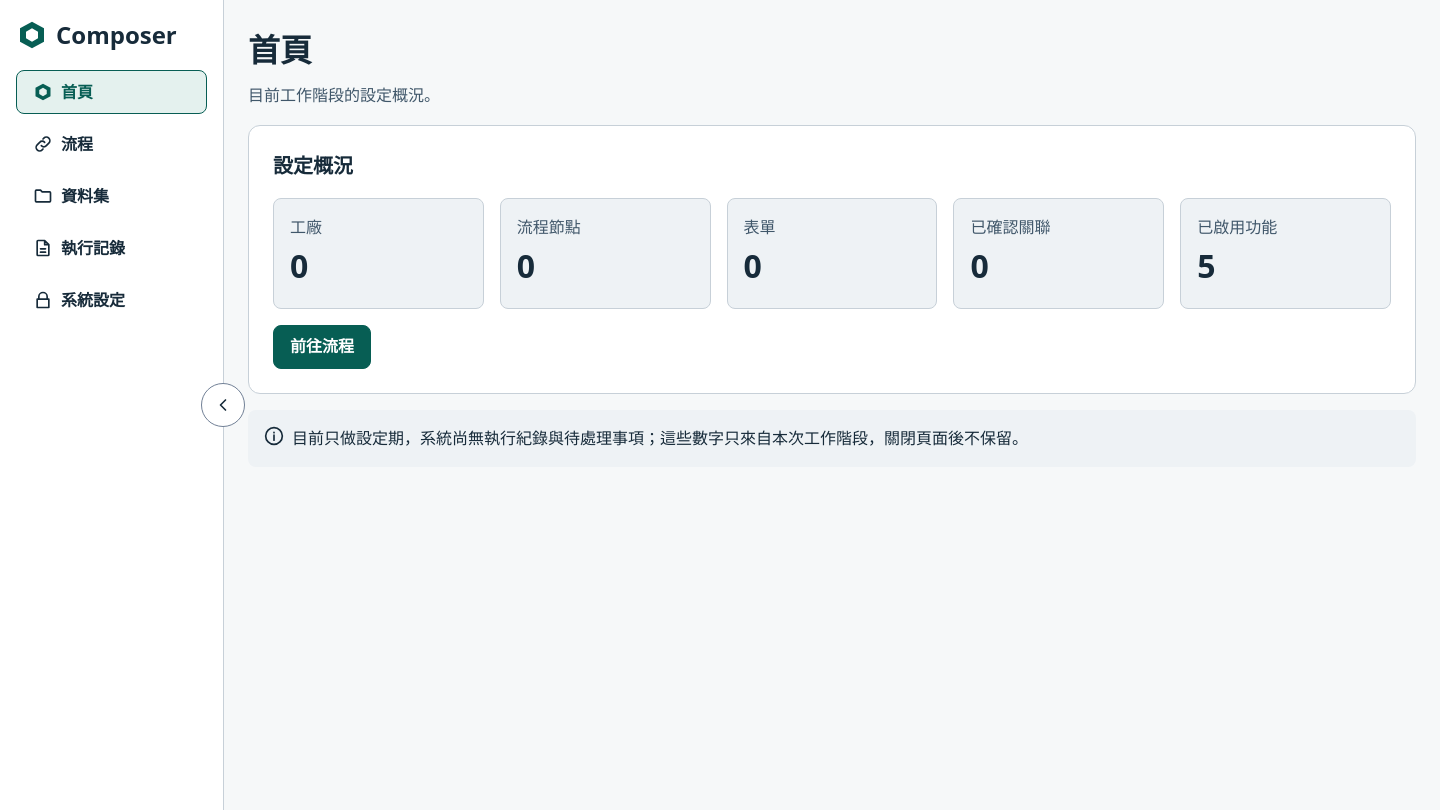
real flows select prerequisites and render both real Kit previews
Click the button "流程": (112, 144) x1=16 y1=122 x2=207 y2=166
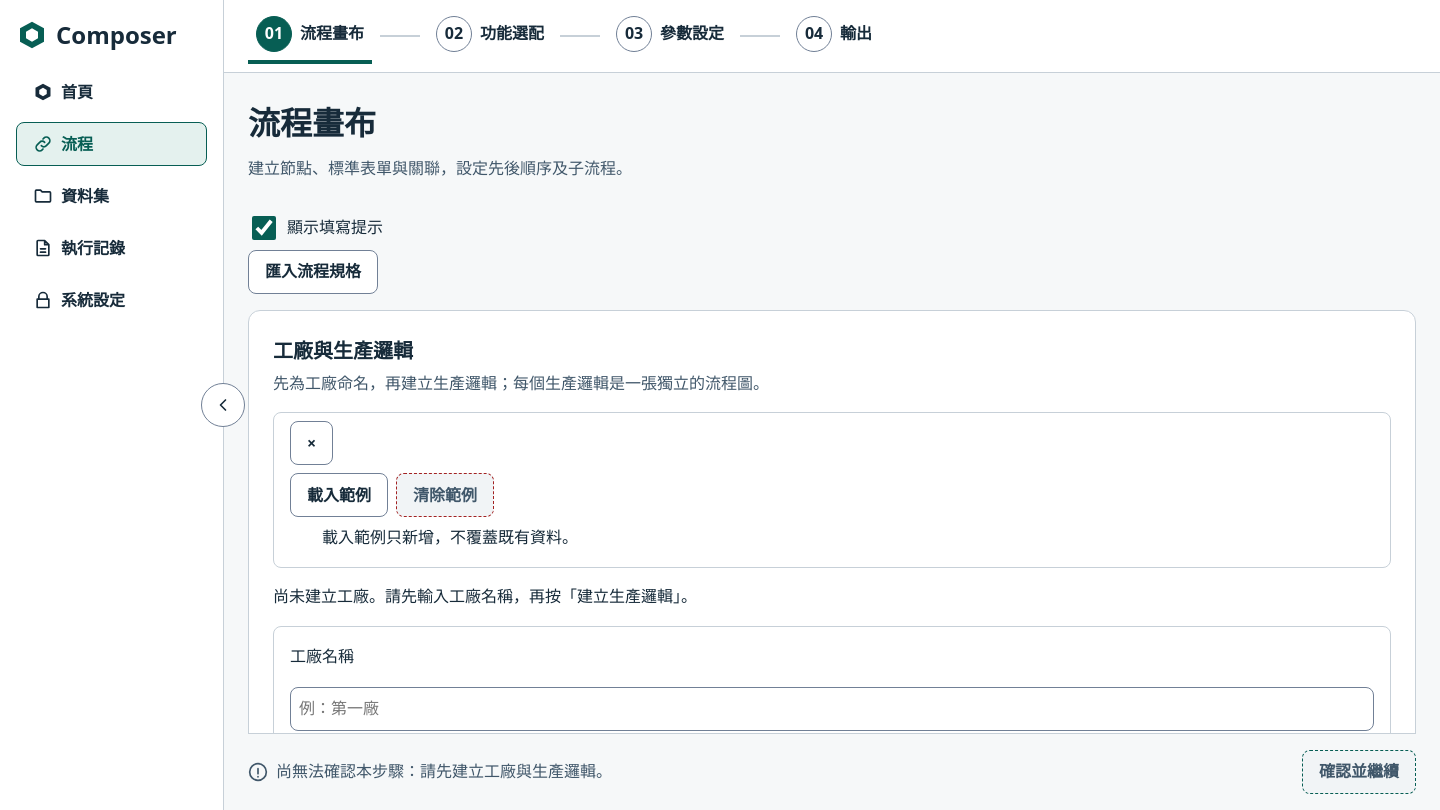
Click the button "02 功能選配": (490, 36) x1=428 y1=8 x2=552 y2=64
(page scrolled)
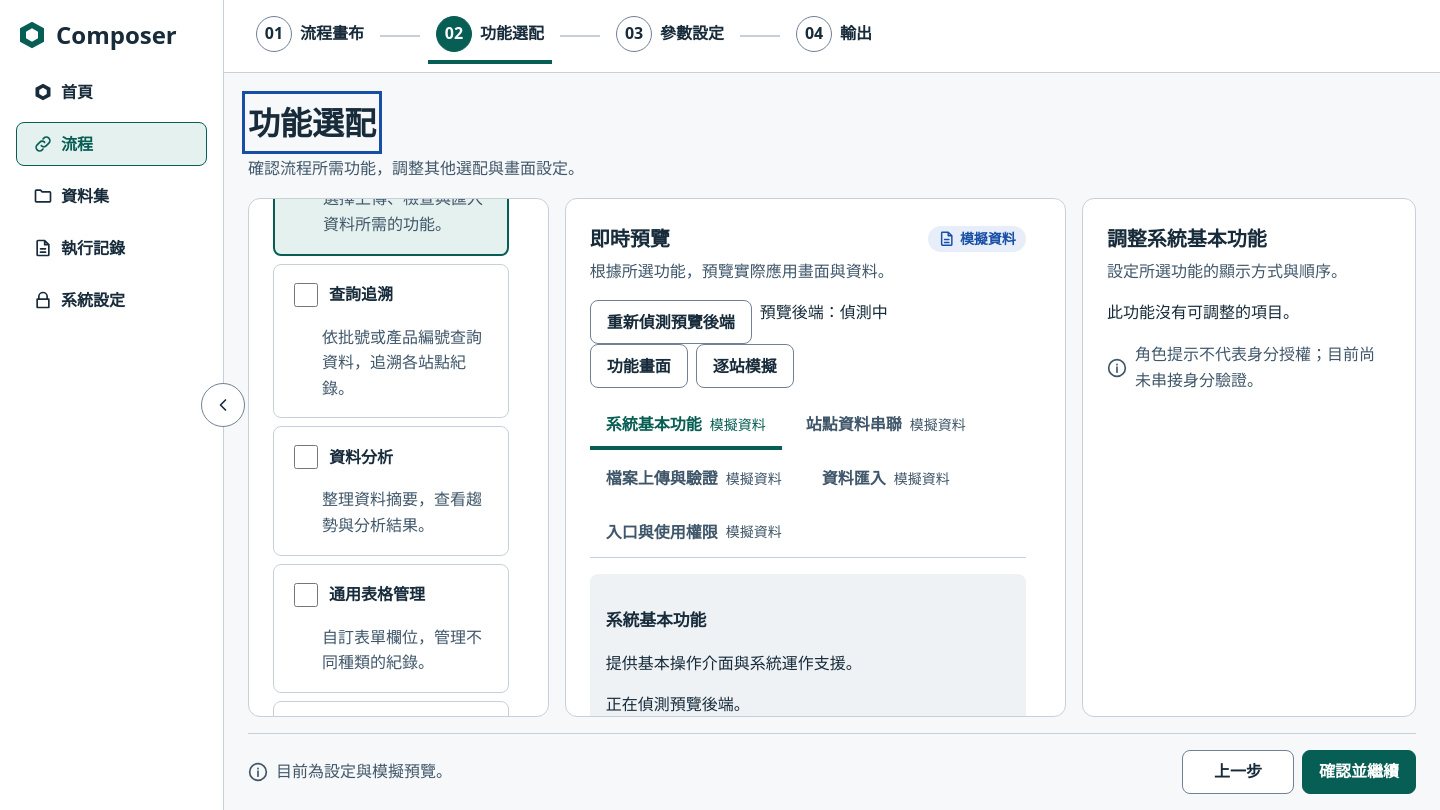
Click the checkbox labelled "資料分析": (306, 457) x1=294 y1=445 x2=318 y2=469
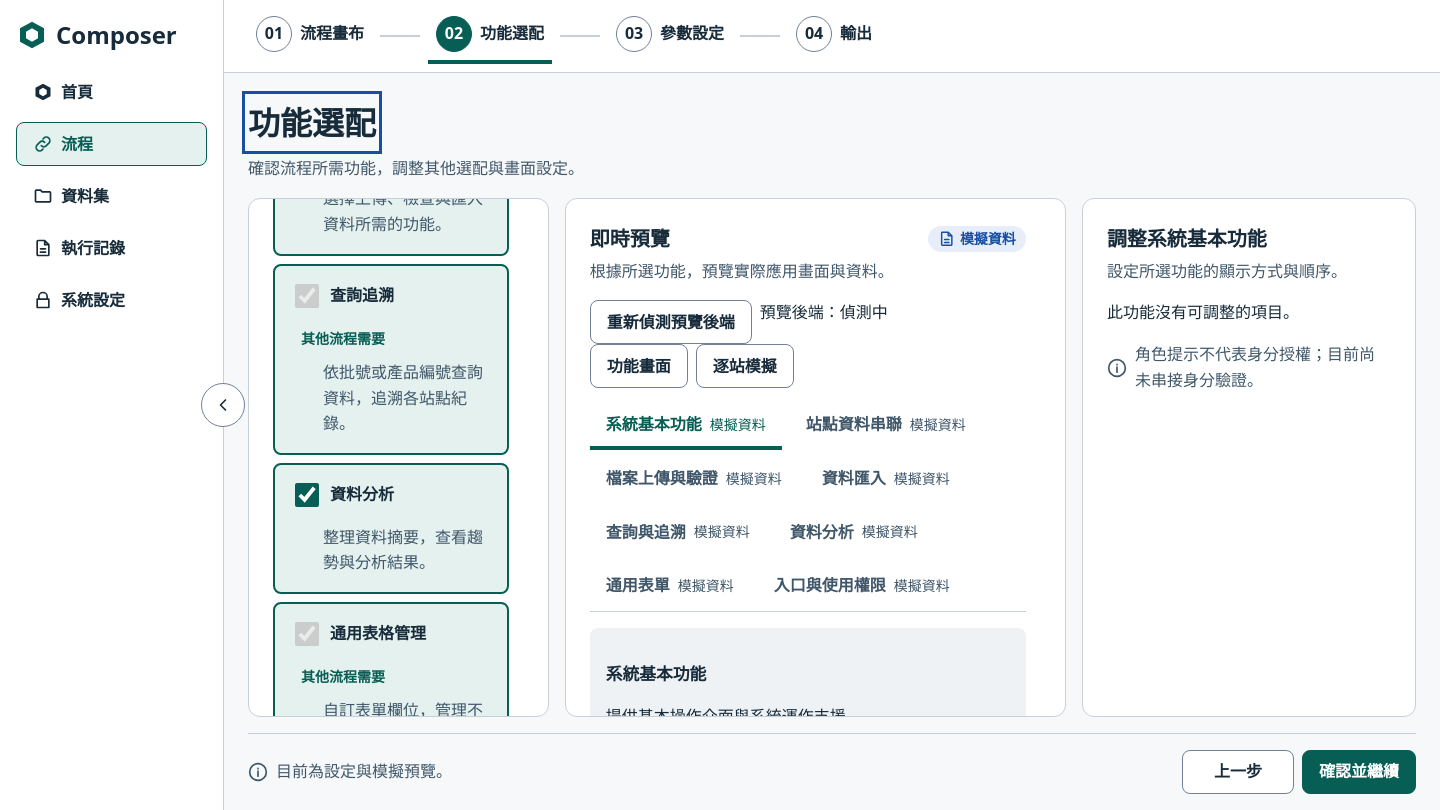
Check: the checkbox labelled "查詢追溯" is disabled, box x1=295 y1=284 x2=319 y2=308
Check: the text "其他流程需要" below "查詢追溯" is shown, box x1=301 y1=328 x2=385 y2=348
Click the tab "查詢與追溯 模擬資料": (678, 534) x1=590 y1=512 x2=766 y2=557
(page scrolled)
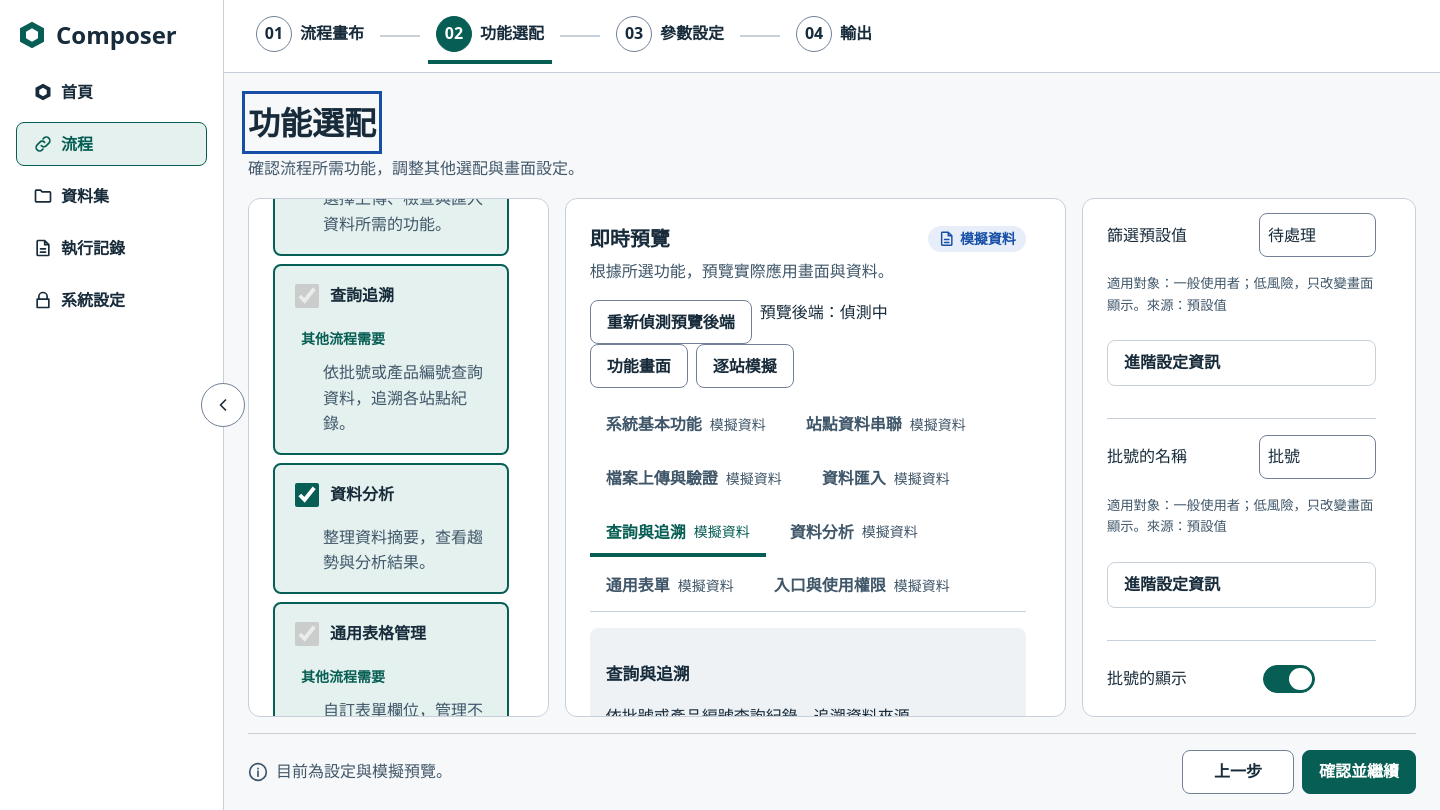
Replace the text in the field labelled "批號的名稱" with "自訂批次": (1317, 457) x1=1259 y1=435 x2=1376 y2=479
Click the tab "檔案上傳與驗證 模擬資料": (694, 481) x1=590 y1=458 x2=798 y2=504
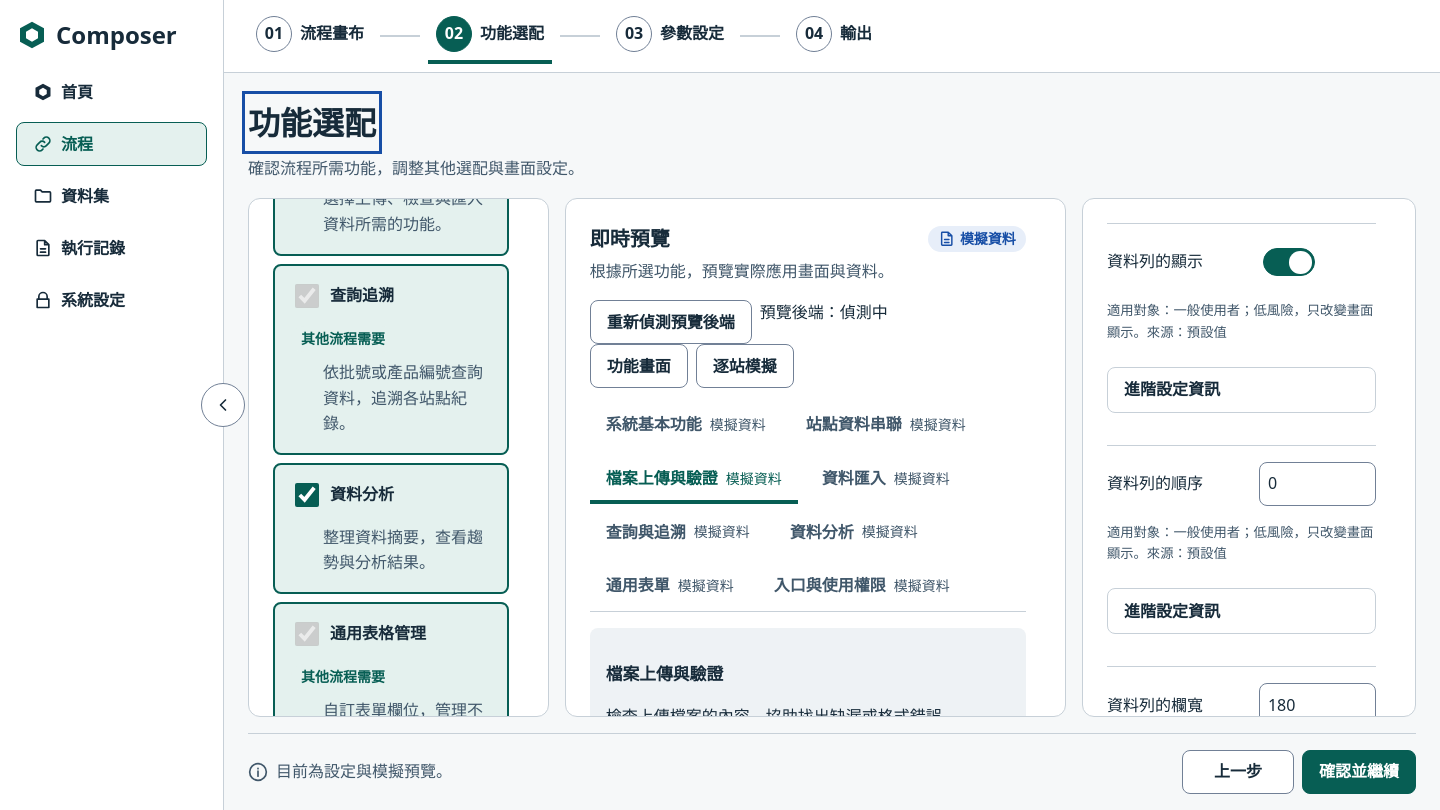
Click the tab "系統基本功能 模擬資料": (686, 427) x1=590 y1=404 x2=782 y2=450
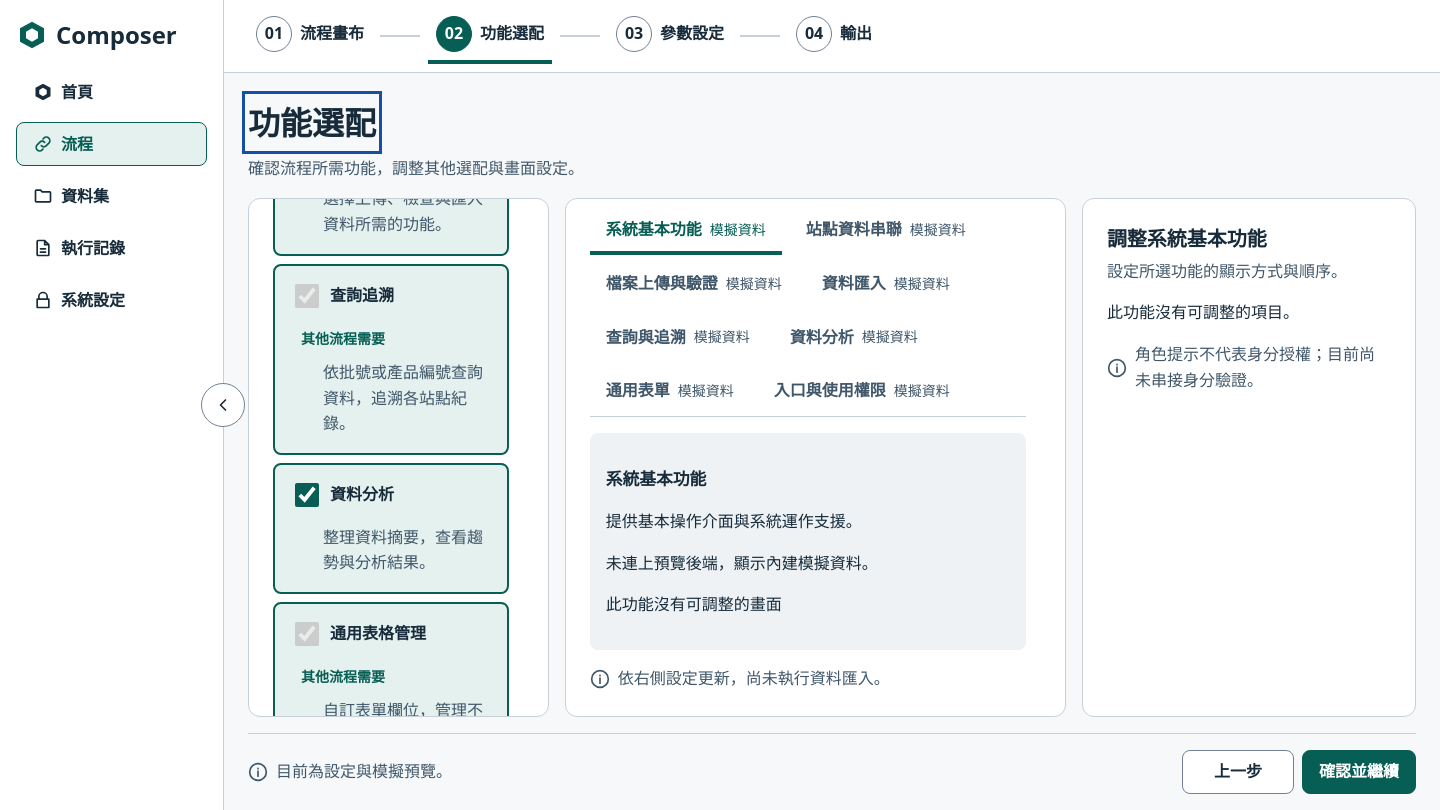
Check: the text "此功能沒有可調整的畫面" is shown, box x1=606 y1=593 x2=782 y2=615
